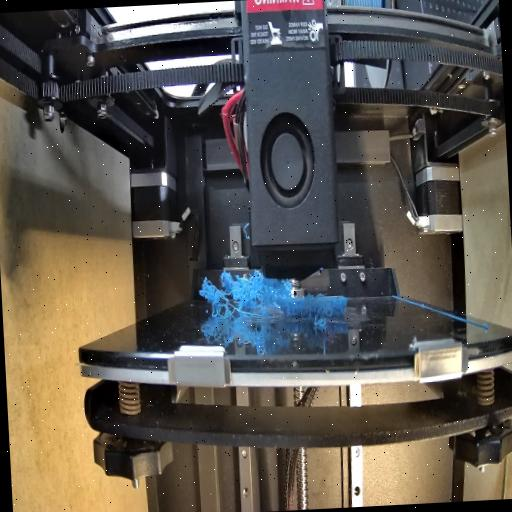spaghetti: (200, 272, 288, 324), (302, 289, 340, 335)
